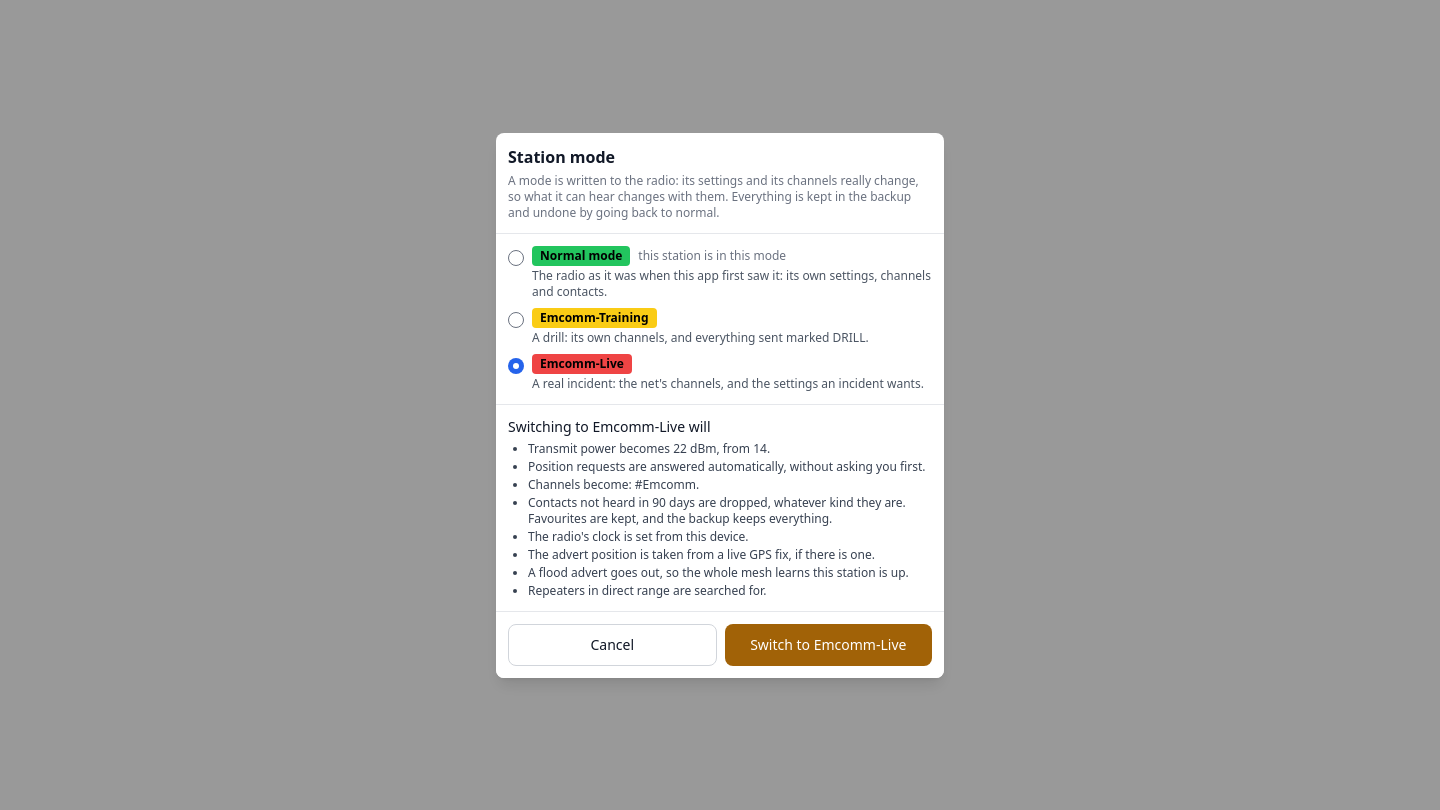
the mode switch dialog › says what would not go, rather than claiming the switch was clean
Click the button "Switch to Emcomm-Live". click: [828, 644]
box: [725,624,932,666]
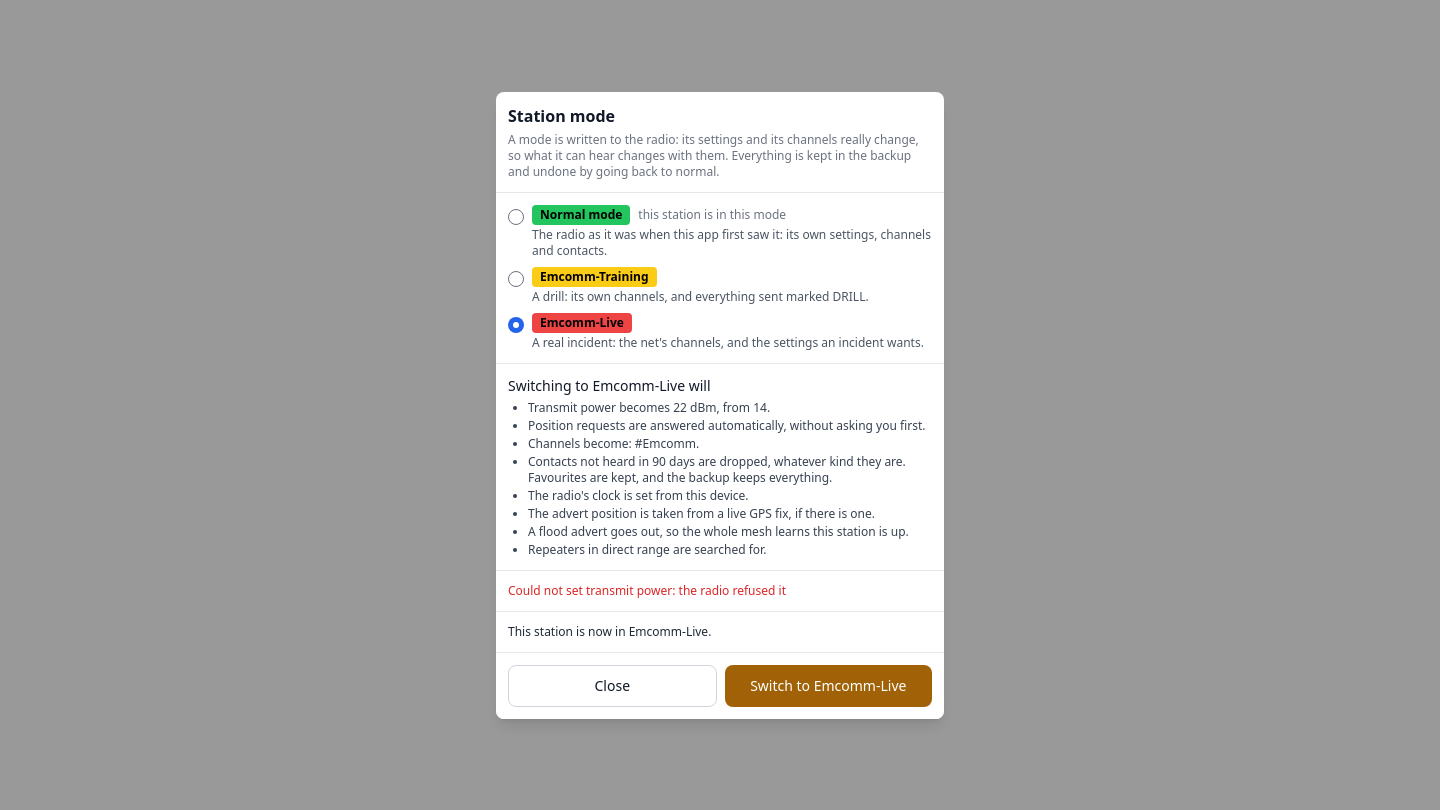
expect the text "Could not set transmit power: the radio refused it" is shown: met, box [508,582,786,598]
